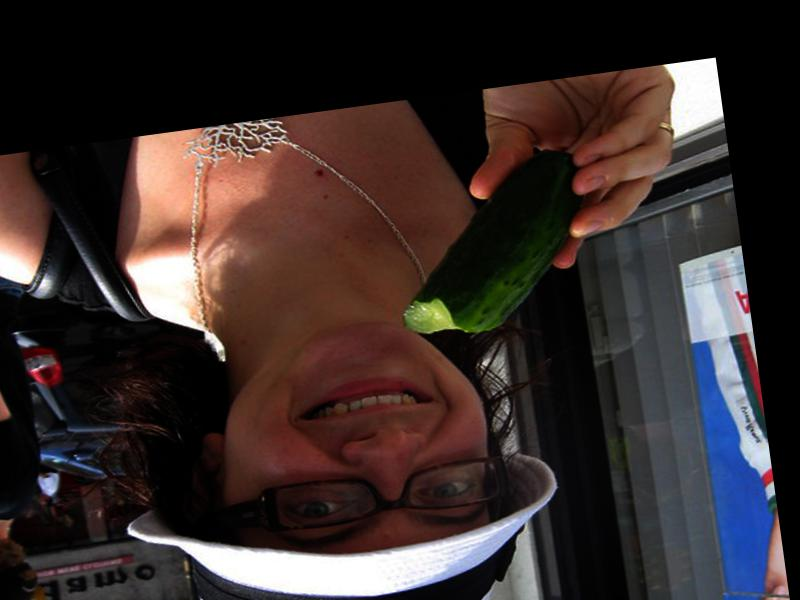Cucumber: (386, 146, 602, 341)
